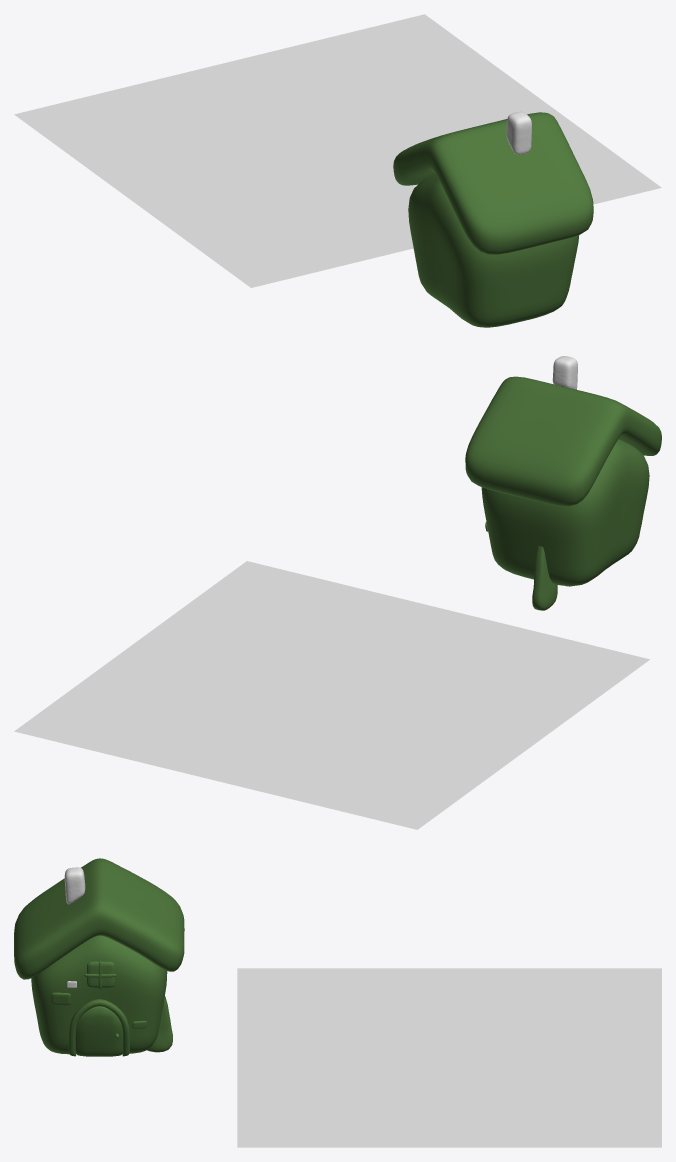
File: plane subdivided .fbx
The picture shows the model from 3 angles, top to bottom: view 1: azimuth 30°, elevation 25°; view 2: azimuth 150°, elevation 25°; view 3: azimuth 270°, elevation 25°; orthographic projection. The views are drawn at different scales.
Visible parts, largest first — view 1: Plane, maison hihi; view 2: Plane, maison hihi, Cube; view 3: Plane, maison hihi, Cube.
Boxes of the visible parts, bbox=[...] form: Plane: bbox=[14, 14, 661, 287]; maison hihi: bbox=[393, 111, 593, 327]; Plane: bbox=[14, 561, 649, 829]; maison hihi: bbox=[465, 356, 661, 585]; Cube: bbox=[532, 546, 557, 610]; Plane: bbox=[237, 968, 661, 1147]; maison hihi: bbox=[14, 858, 184, 1056]; Cube: bbox=[147, 996, 172, 1052].
Bounding box in the file's own units: 2259 × 1133 × 3448.
